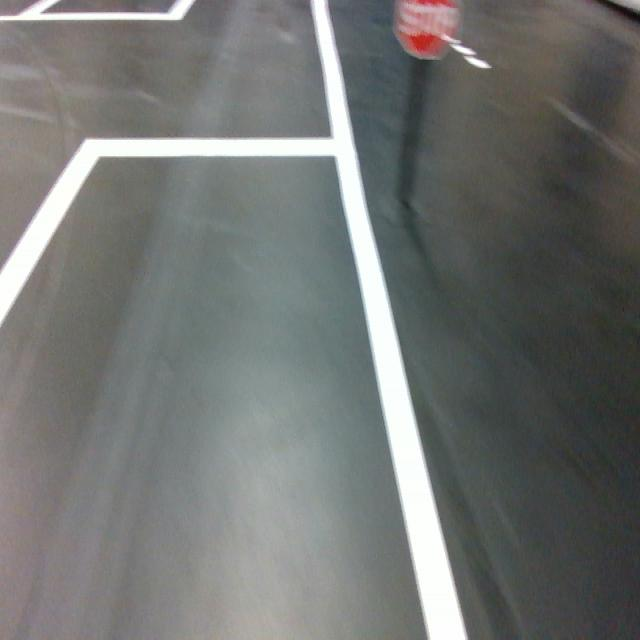stop-sign: (391, 0, 467, 62)
